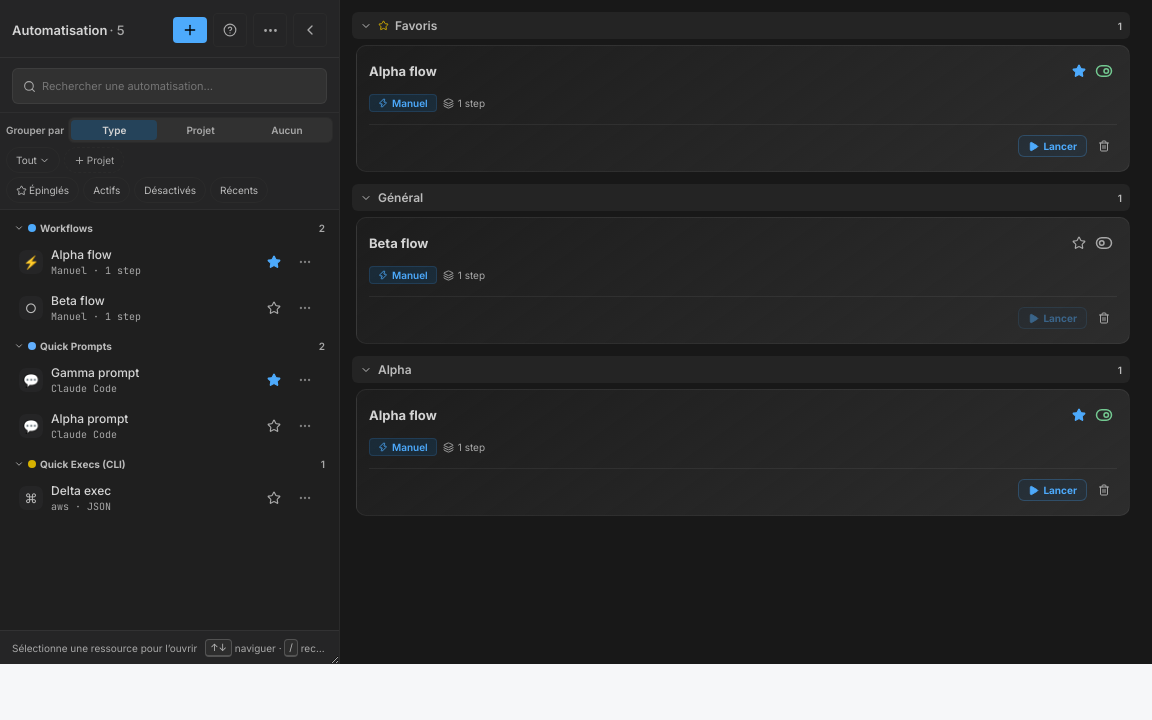
Test: WorkflowsPage › sidebar filters and grouping (KT-916) › stacks pinned, type, project and search, each count reading what the others leave
Expected: the button "Effacer les filtres" is not shown
Step 1. Click the button "Épinglés" → x=43, y=190, box left=6, top=177, right=79, bottom=203
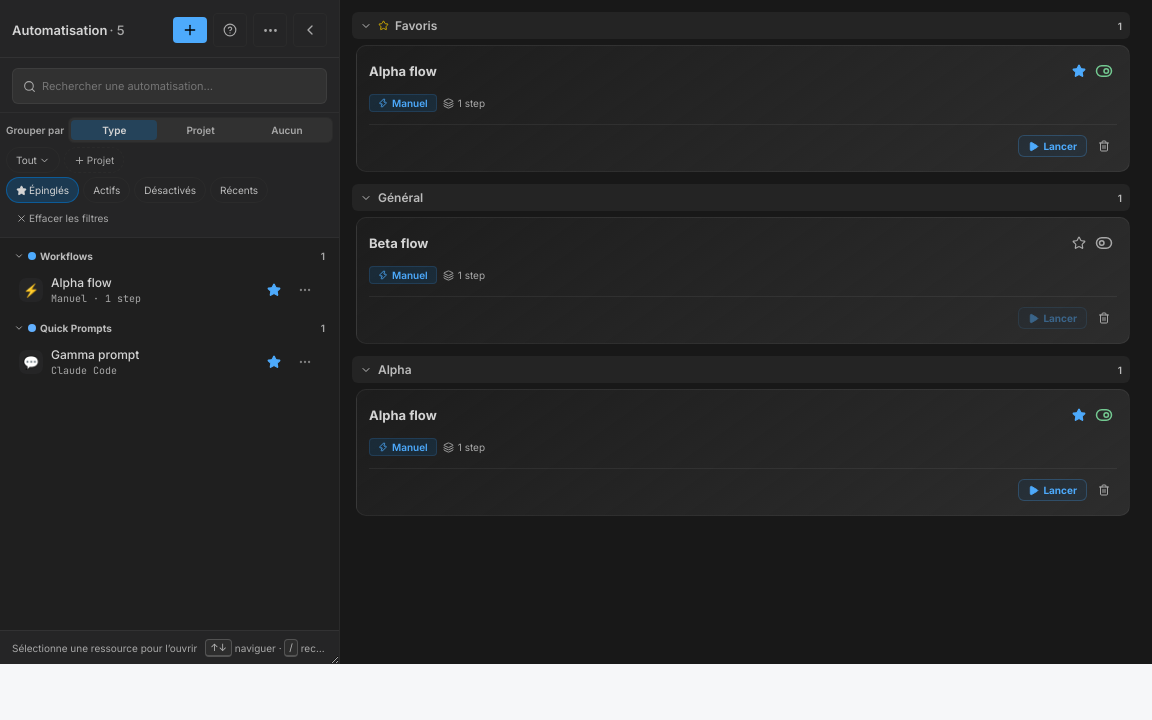
Result: the button "Épinglés" is pressed at left=6, top=177, right=79, bottom=203
Step 2. Click the button with aria-label "Type d’automatisation : " → x=33, y=160, box left=6, top=147, right=60, bottom=173
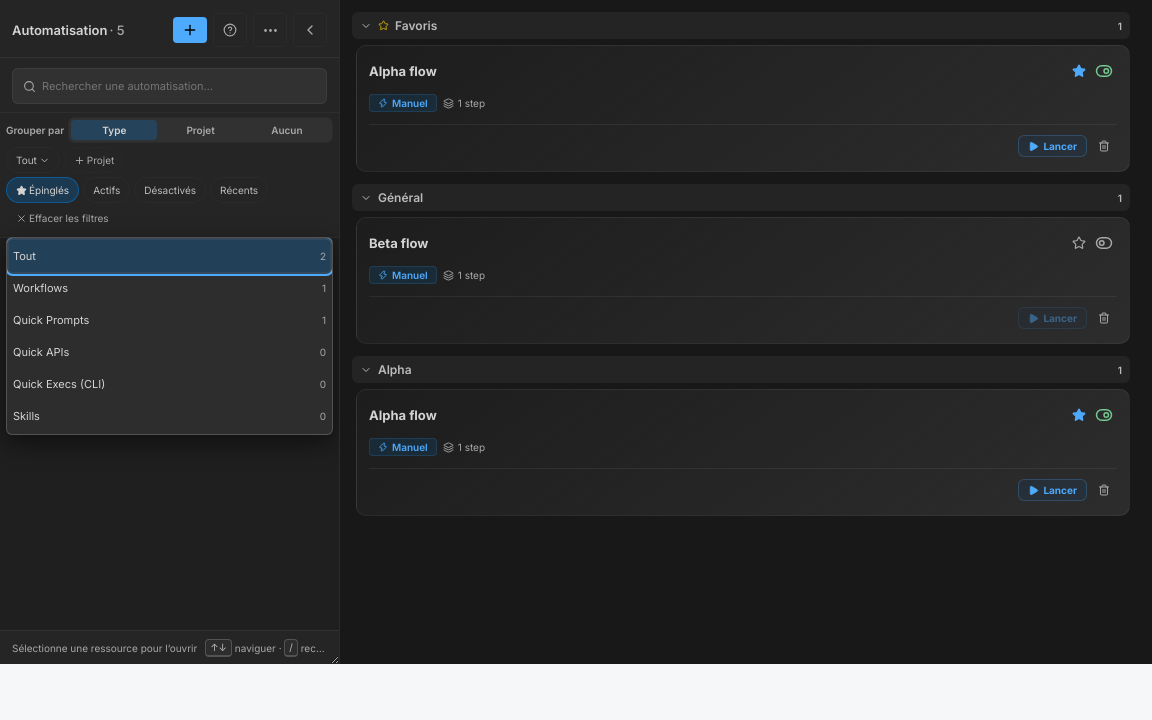
Step 3. Click the option with aria-label "Workflows (1)" → x=41, y=288, box left=9, top=272, right=330, bottom=304
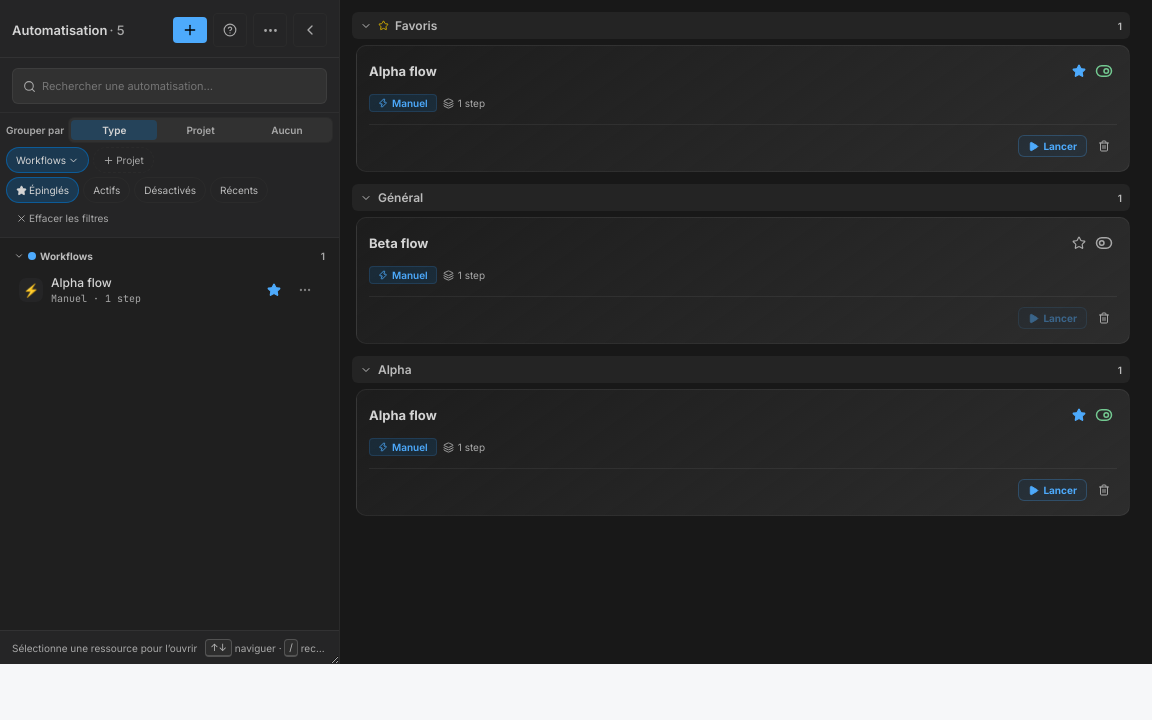
Step 4. Type "gamma" into the field labelled "Rechercher une automatisation…" → x=179, y=86, box left=42, top=79, right=316, bottom=93
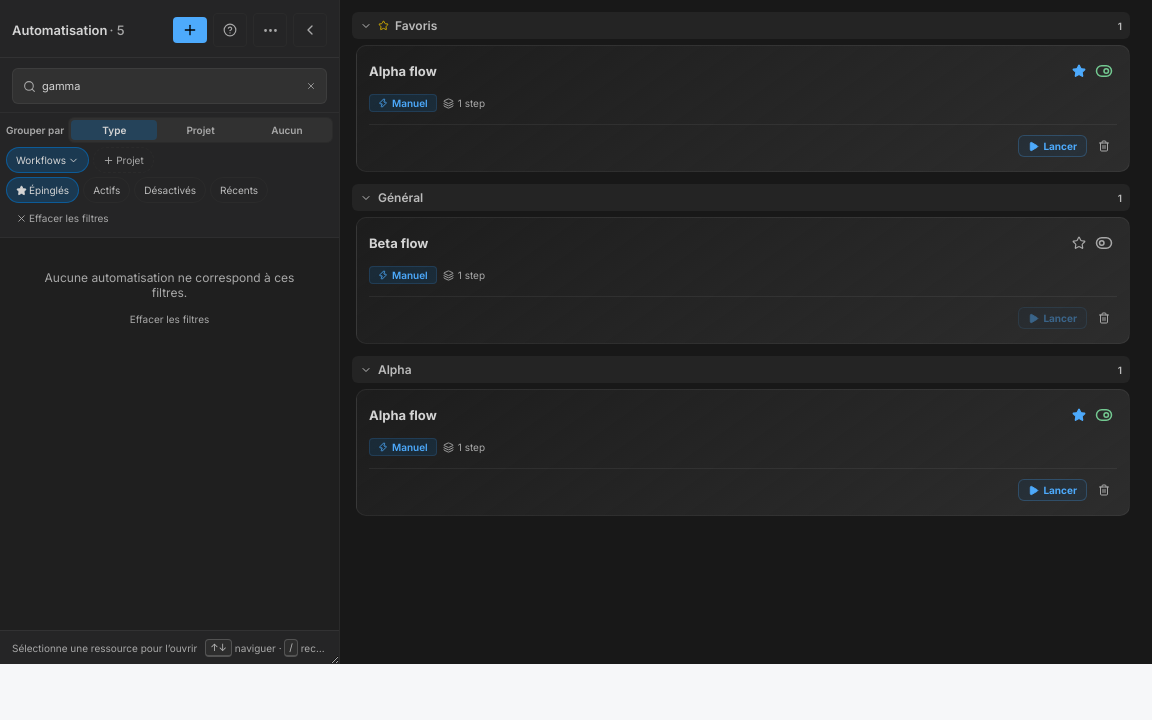
Result: the text "Aucune automatisation ne correspond à ces filtres." is shown at left=45, top=270, right=294, bottom=300
Result: the 2nd button "Effacer les filtres" is shown at left=120, top=306, right=219, bottom=332
Step 5. Click the button "Effacer les filtres" below "Grouper par" → x=62, y=218, box left=6, top=205, right=119, bottom=231
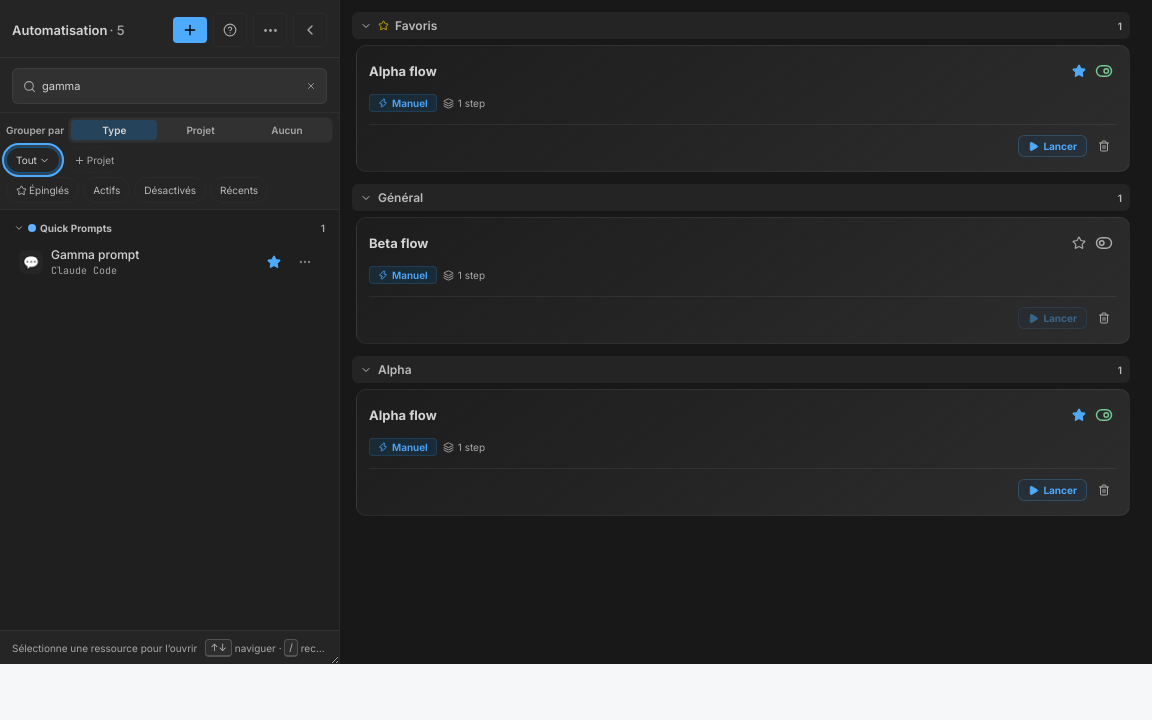
Result: the button "Effacer les filtres" is gone
